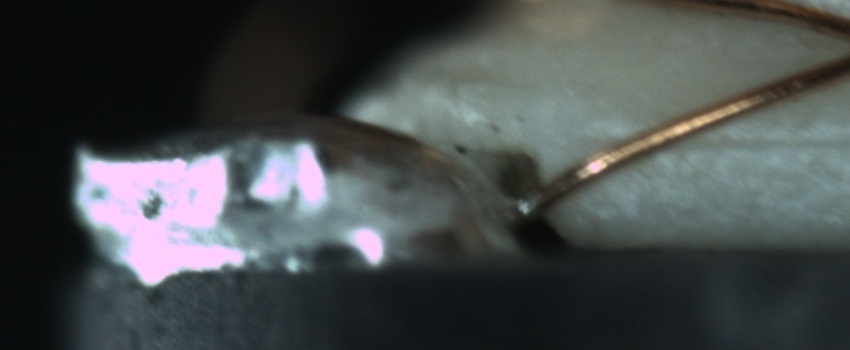DL: (621, 107, 849, 173)
